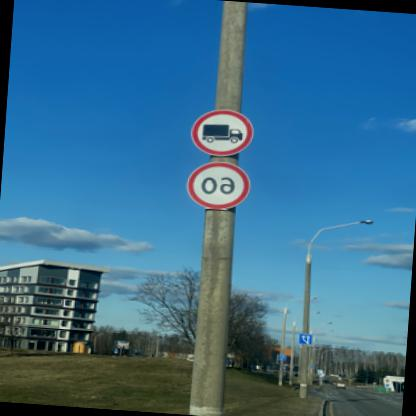speedlimit: (189, 159, 255, 211)
